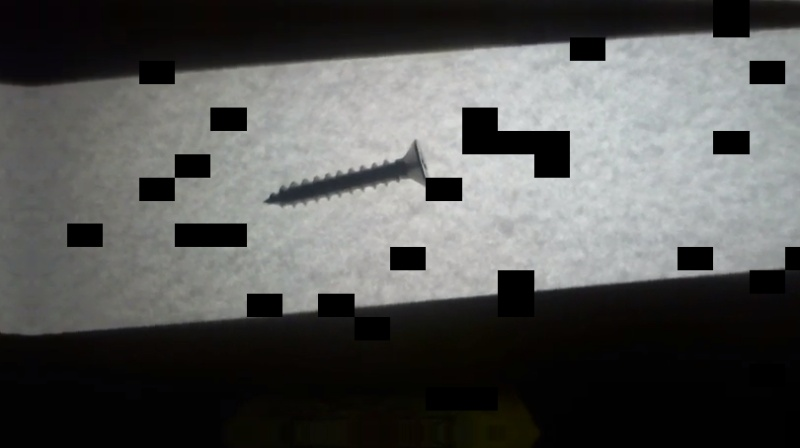S001: (257, 136, 433, 215)
